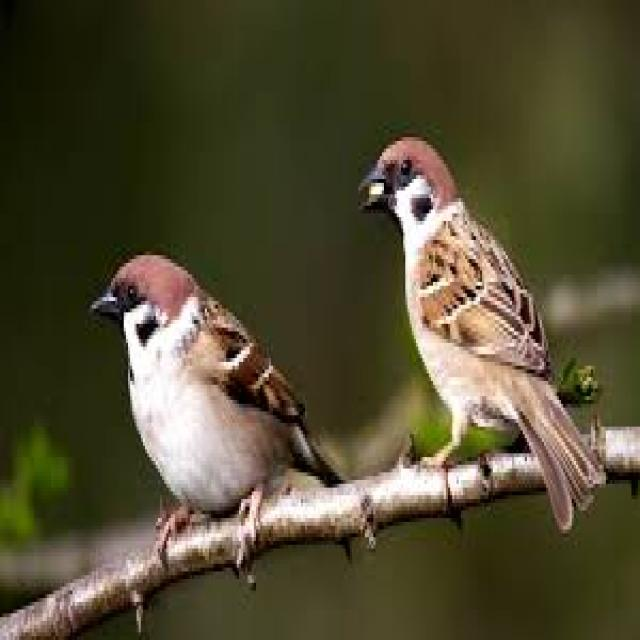bird: (327, 74, 598, 524), (32, 215, 348, 600)
